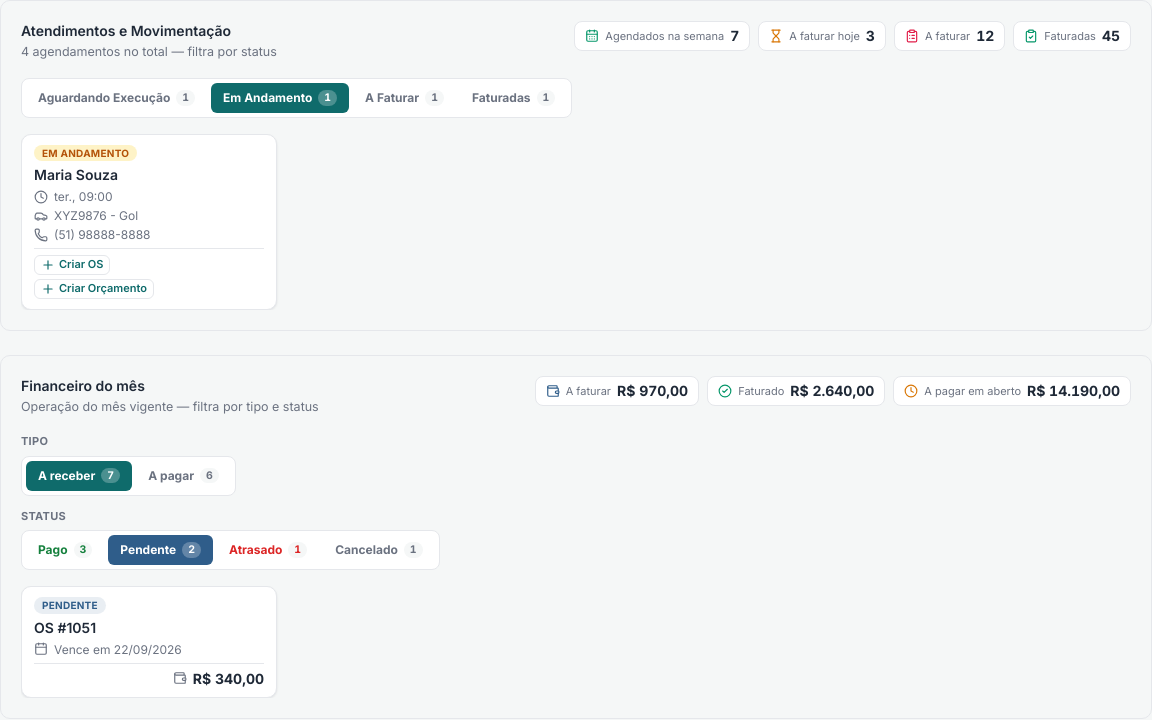
Scenario: <Dashboard> › troca pro Tipo 'A pagar' e recalcula o filtro de Status
Expected: the text "OS #1051" is shown, x1=34 y1=618 x2=96 y2=636
Click the button "A pagar 6": (184,476) x1=136 y1=460 x2=231 y2=490
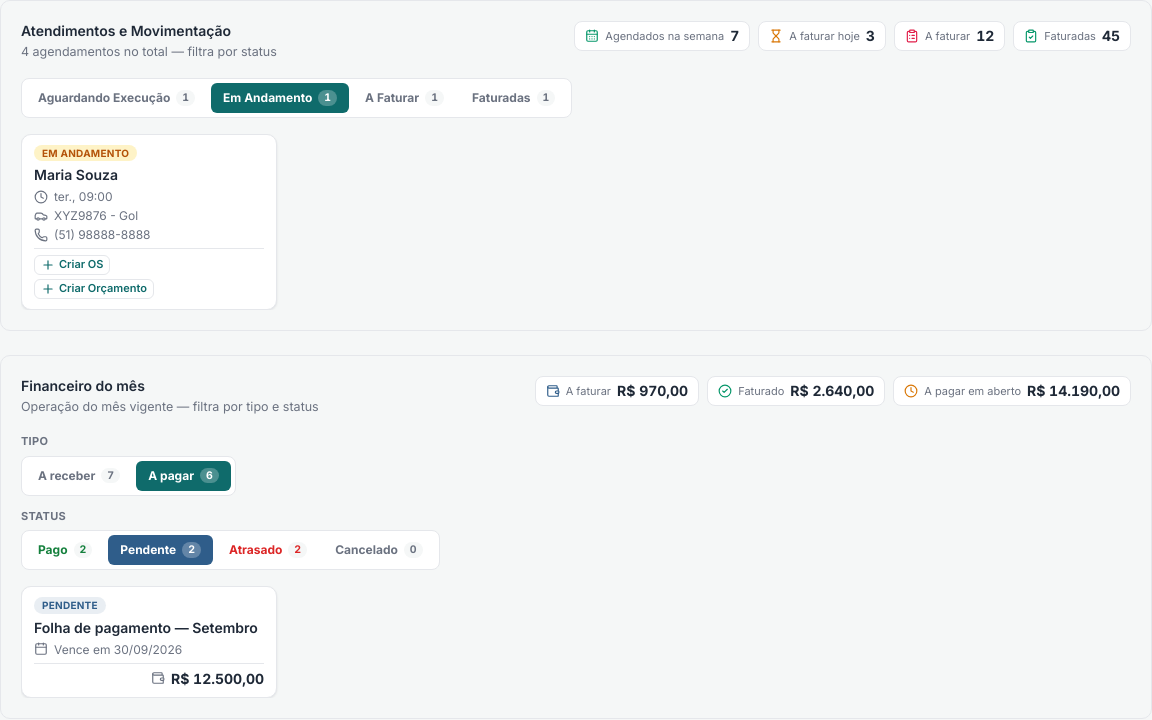
Expected: the text "Folha de pagamento — Setembro" is shown, x1=34 y1=618 x2=264 y2=638
Expected: the link "OS #1051" is gone
